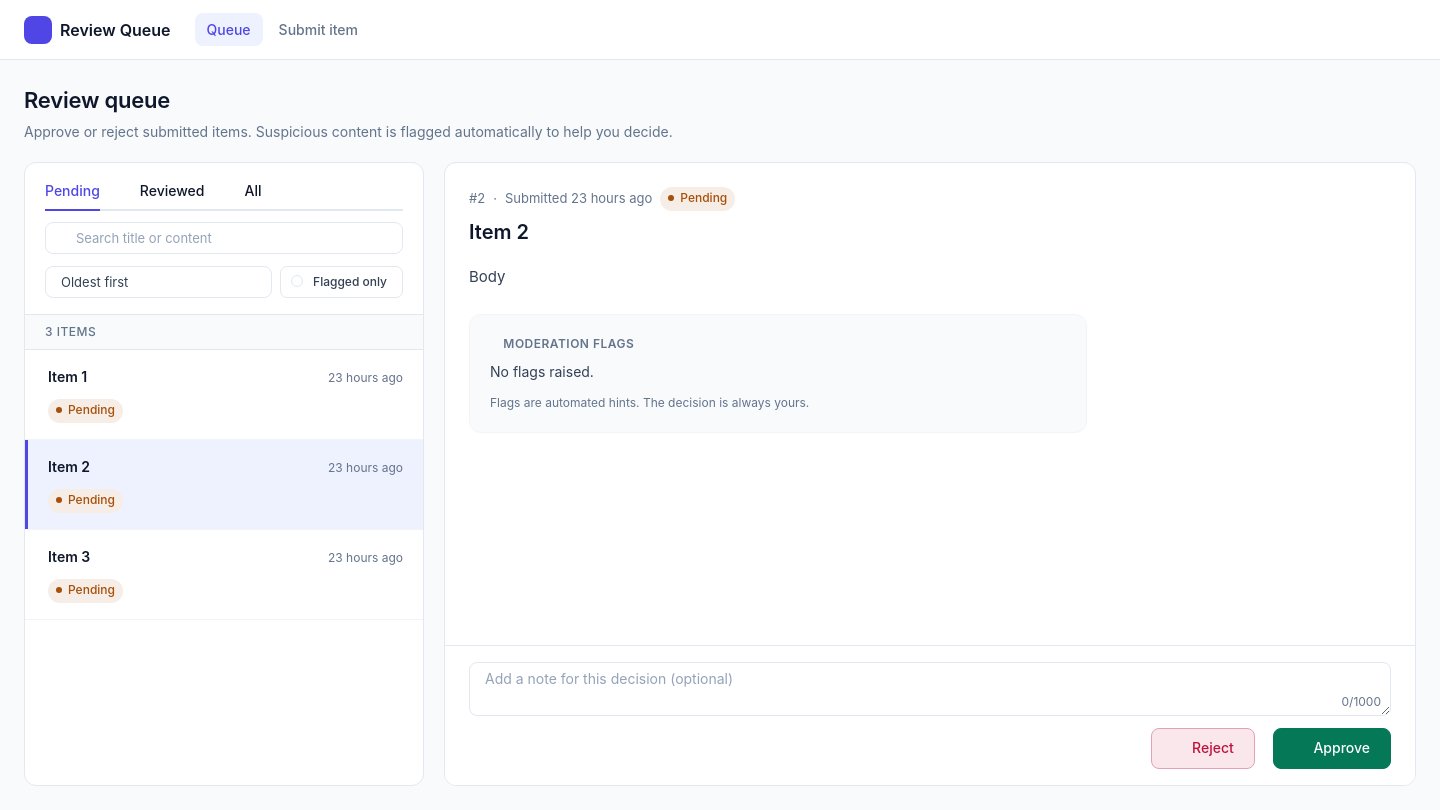
Test: QueueView › removes a reviewed item from the pending list and opens the next one
The width and height of the screenshot is (1440, 810).
Step 1. Click the button "Approve" → {"x": 1332, "y": 748}, box [1273, 728, 1391, 769]
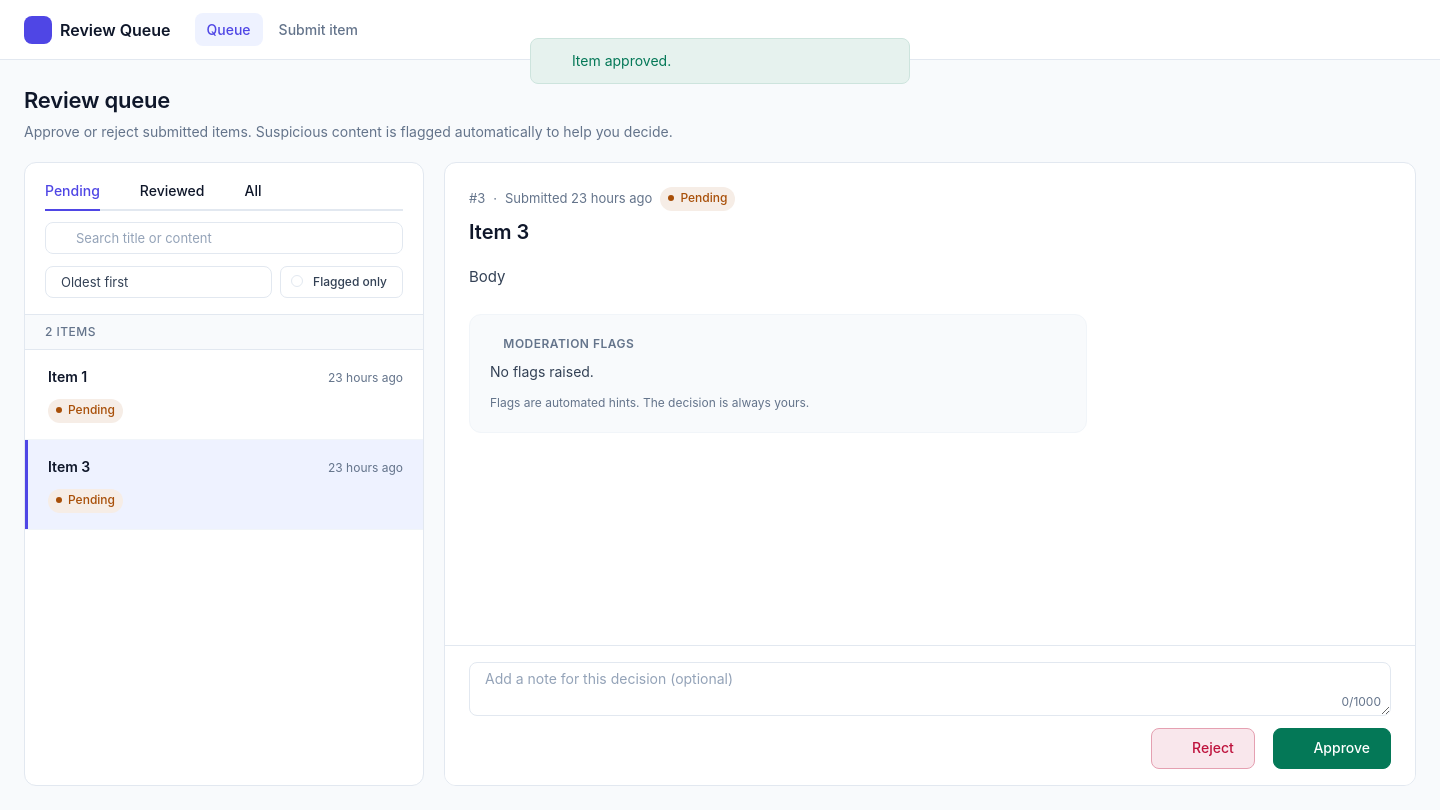
Check: the text "2 items" is shown, box [25, 314, 423, 350]
